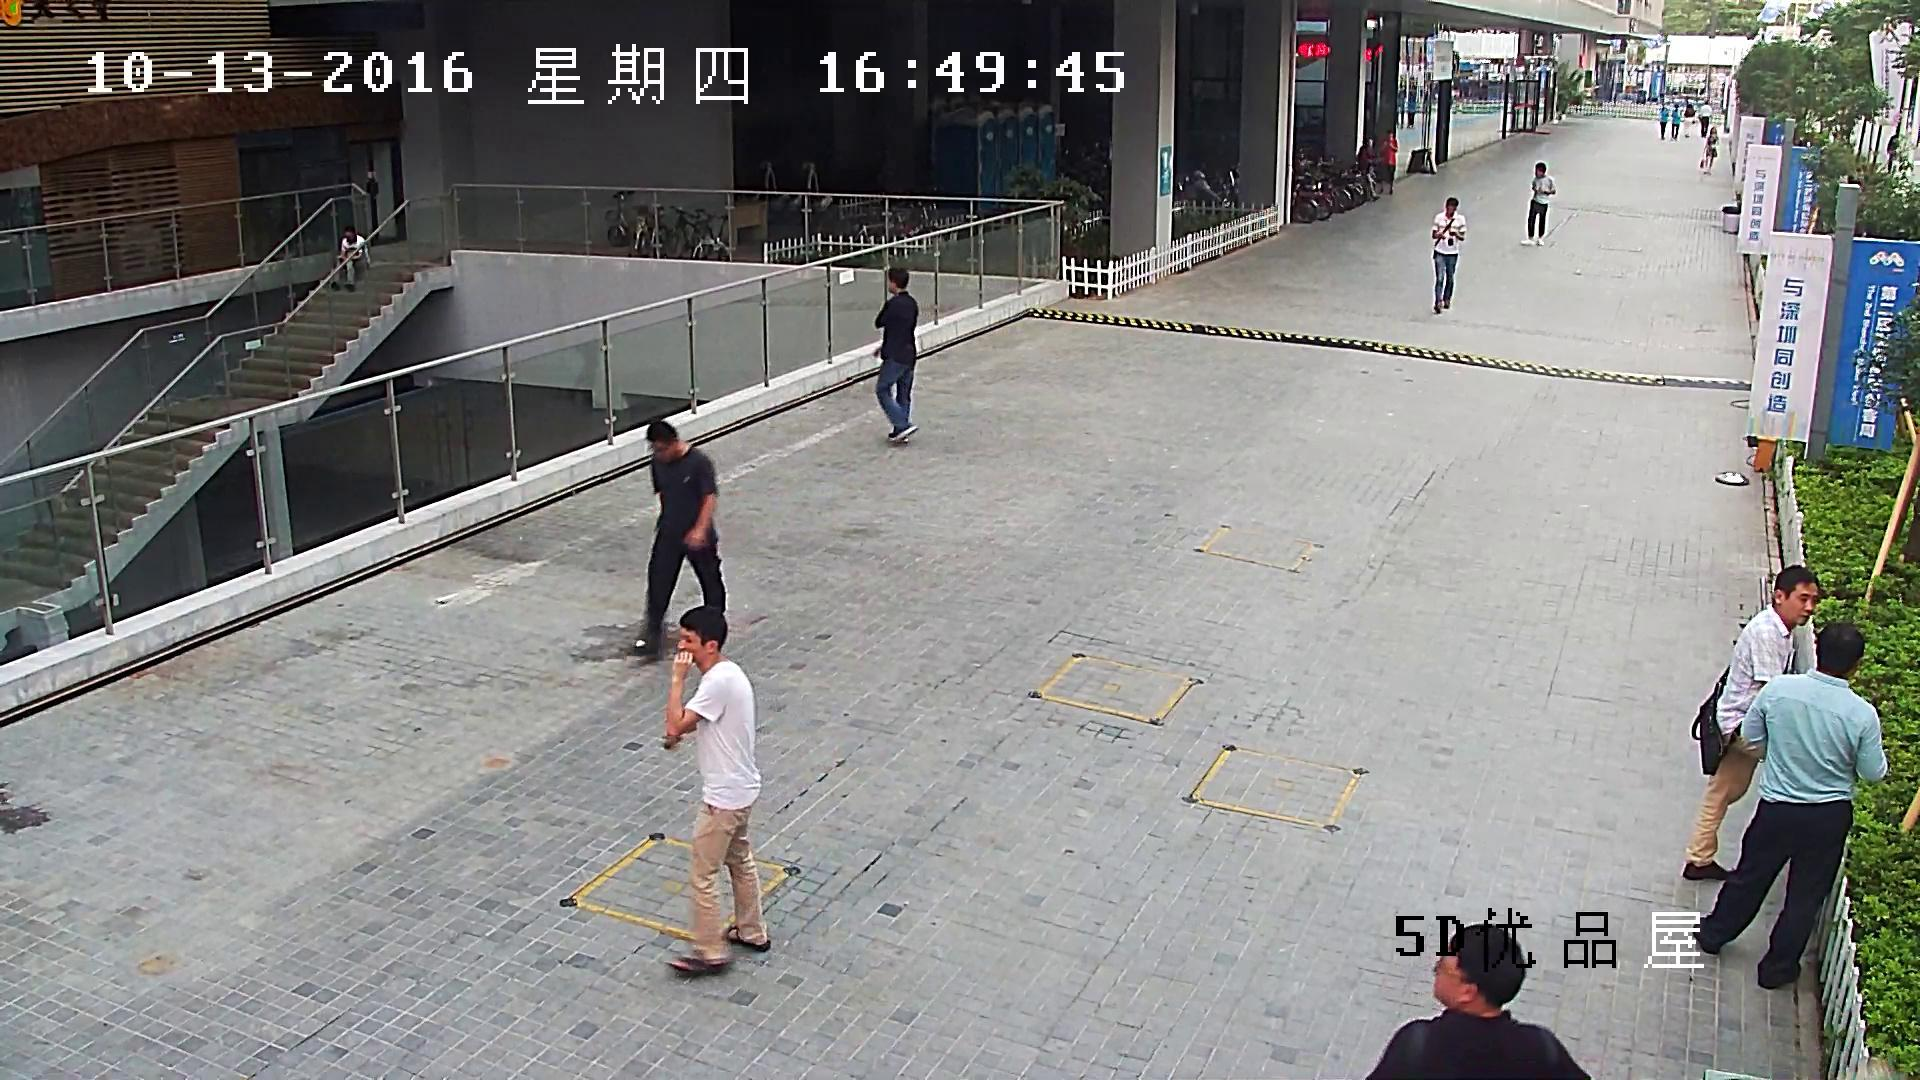person: (1692, 626, 1887, 987), (1682, 563, 1818, 881), (666, 605, 771, 976), (1361, 924, 1592, 1080), (634, 420, 726, 651), (875, 267, 918, 442), (1432, 197, 1466, 314), (1520, 162, 1556, 246), (330, 224, 370, 291), (1359, 137, 1381, 202), (1378, 129, 1398, 195), (1699, 127, 1718, 174), (1886, 125, 1900, 173), (1697, 100, 1711, 137), (1682, 103, 1695, 137), (1406, 92, 1416, 128), (1671, 103, 1680, 142), (1658, 104, 1667, 139), (1396, 90, 1404, 128)
